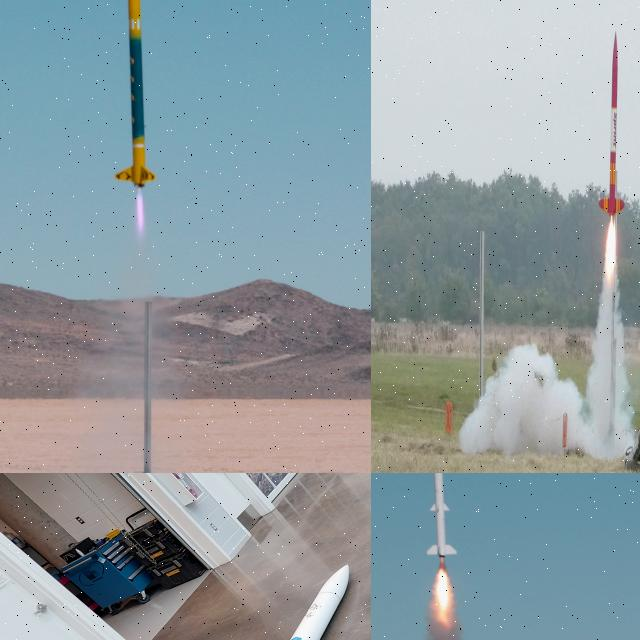Rocket: (114, 0, 157, 189), (599, 30, 626, 218), (426, 473, 458, 558)
